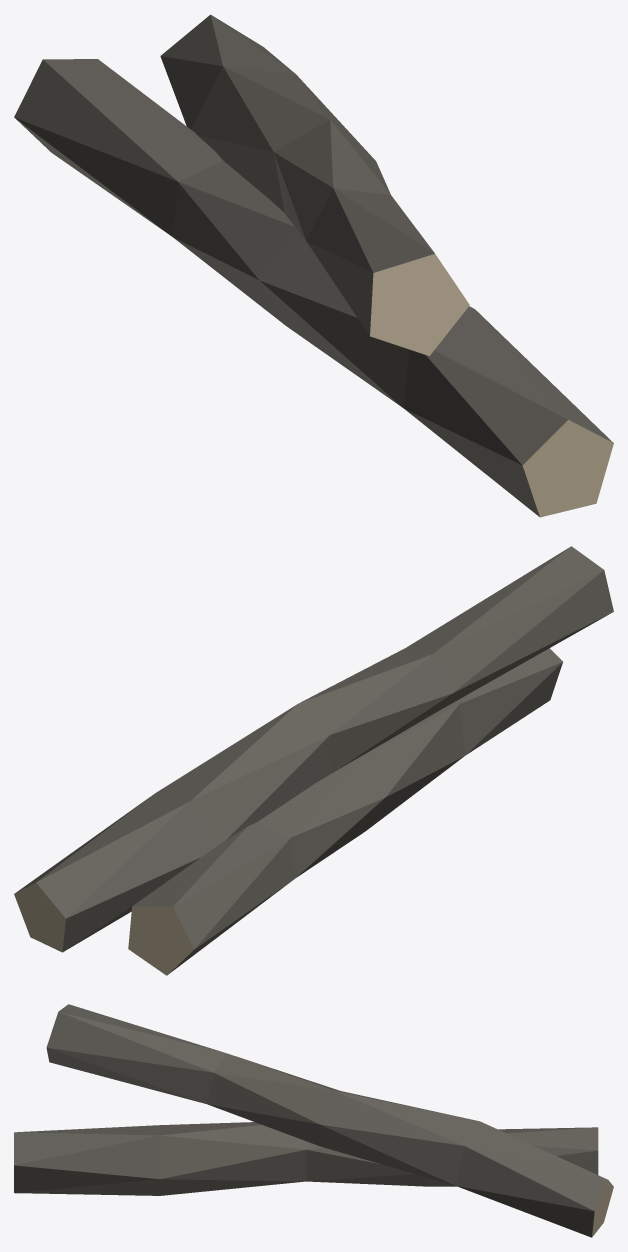
Rendered from SM_LicoriceRoot.fbx.
3 views of the same model, one above another, from view 1: azimuth 30°, elevation 25°; view 2: azimuth 150°, elevation 25°; view 3: azimuth 270°, elevation 25° (orthographic). The views are drawn at different scales.
Visible parts, largest first — view 1: Licorice_Root; view 2: Licorice_Root; view 3: Licorice_Root.
Boxes of the visible parts, x1,y1,x2,y2 form: Licorice_Root: [14, 14, 613, 517]; Licorice_Root: [14, 546, 613, 975]; Licorice_Root: [14, 1004, 613, 1237].
Bounding box in the file's own units: 0.1324 × 0.094 × 0.3372.
